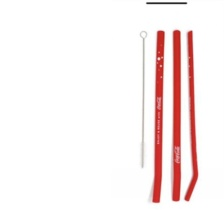drinking_straw: (148, 28, 167, 207), (182, 27, 201, 204), (170, 28, 184, 204)
